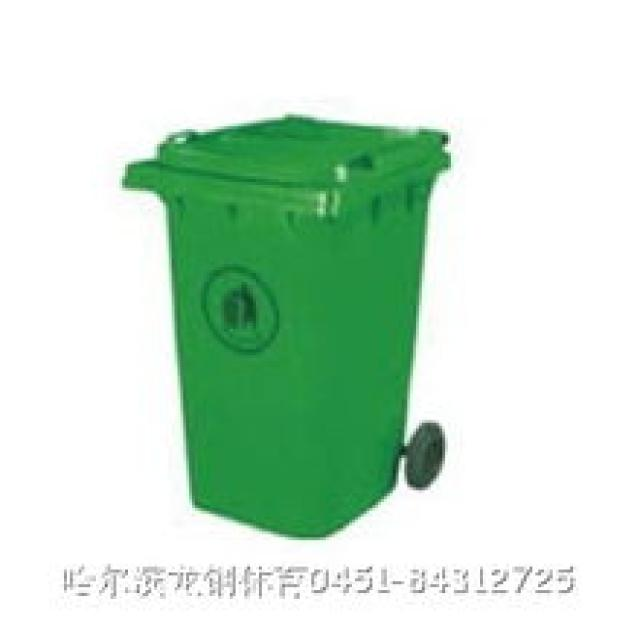garbage_bin: (119, 112, 451, 537)
